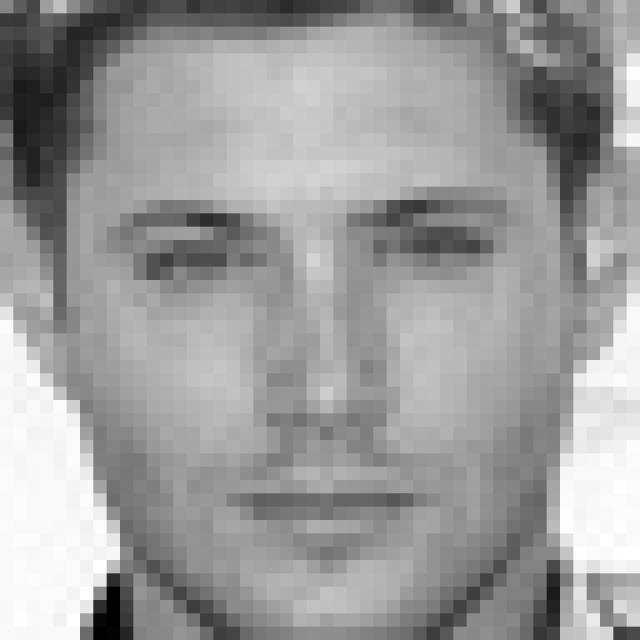neutral: (104, 172, 524, 570)
